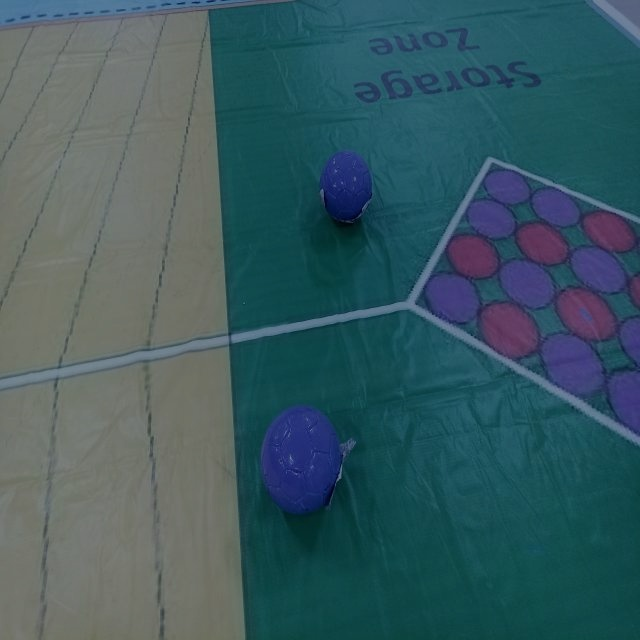purple_ball: (260, 406, 338, 514), (321, 152, 370, 219)
